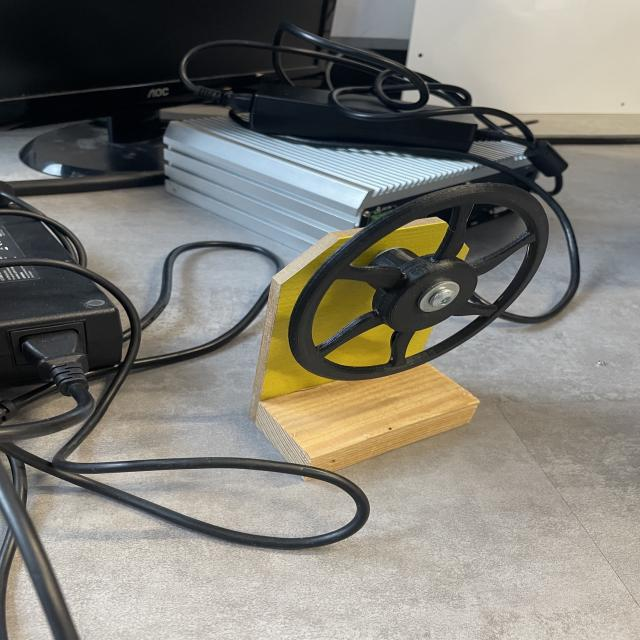Wheel Handle Valve Threaded: (286, 180, 552, 382)
